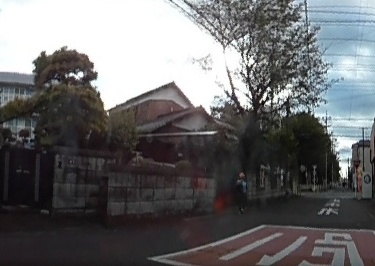person: (233, 171, 249, 213)
